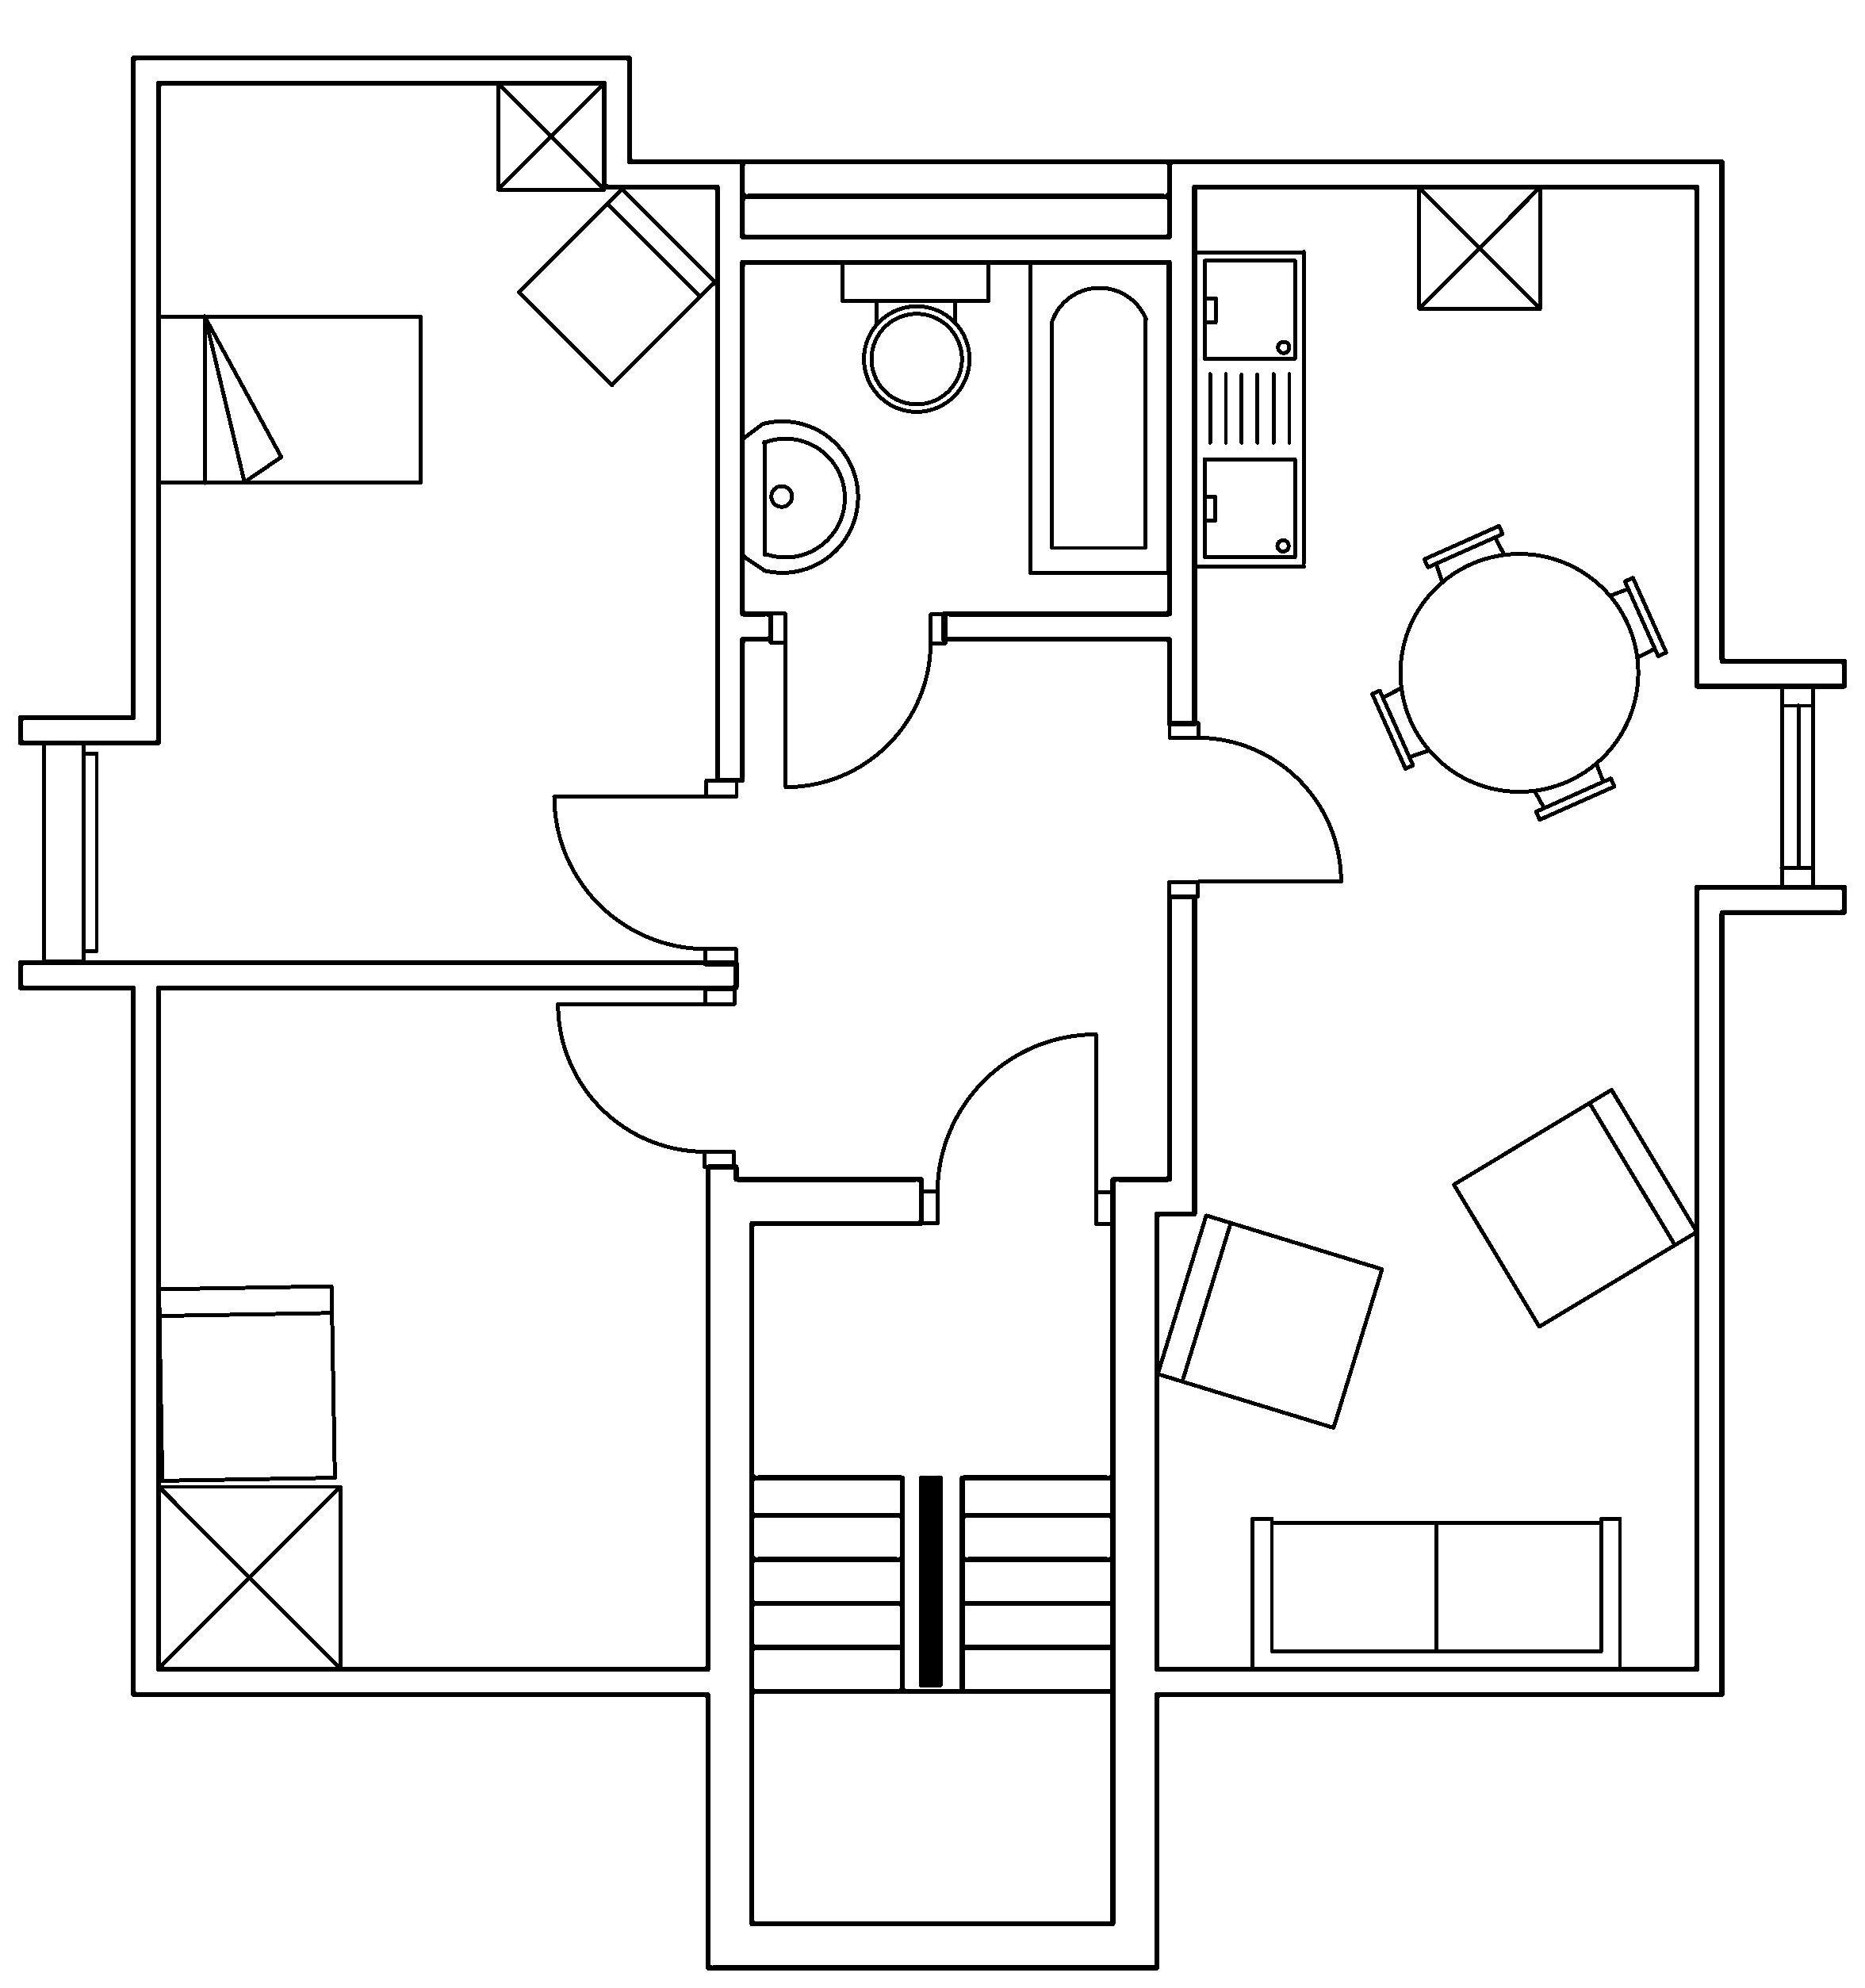bed: (154, 312, 422, 486)
coffee_table: (154, 1481, 342, 1671), (1416, 182, 1542, 310), (494, 79, 606, 191)
large_sink: (840, 258, 990, 412)
large_sofa: (1248, 1515, 1623, 1672)
round_table: (1369, 522, 1669, 822)
small_sink: (740, 419, 859, 573)
small_sofa: (1450, 1085, 1698, 1329), (1153, 1211, 1385, 1431), (515, 186, 717, 387), (156, 1282, 337, 1483)
tub: (1027, 258, 1171, 575)
twin_sink: (1192, 247, 1308, 570)
